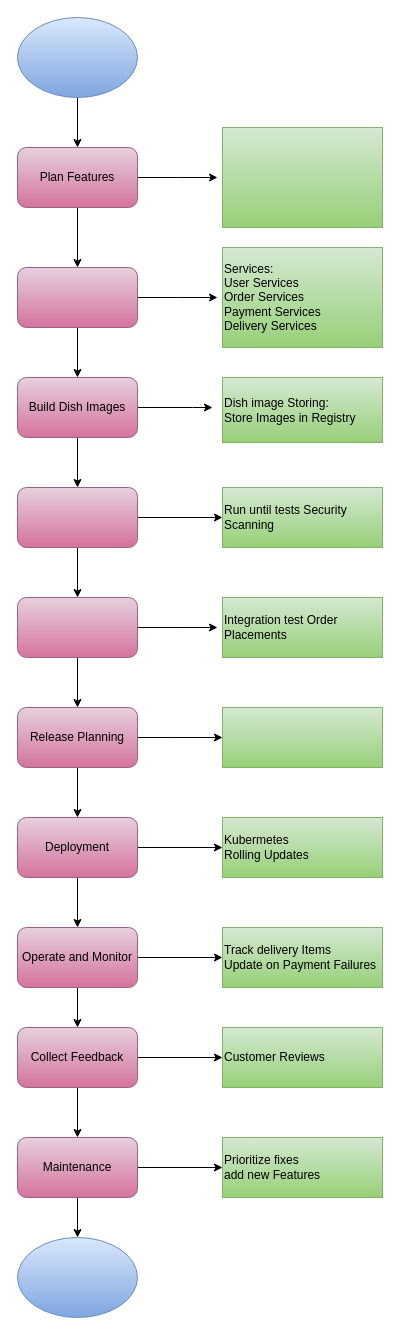
Image size: 400x1335. Some labels were removed from this diagram. The shapes that lost their labels are listed below. From the top down, each one's centre as x and y in pixels, then its label:
the point at 77,57: Start
the point at 302,177: Examples: Restaurant On boarding Menu Updates Order Tracking Payment Integration
the point at 77,297: Develop Code
the point at 77,517: Continuous Integration
the point at 77,627: Automate Testing
the point at 302,737: Using with QA
the point at 77,1277: End
